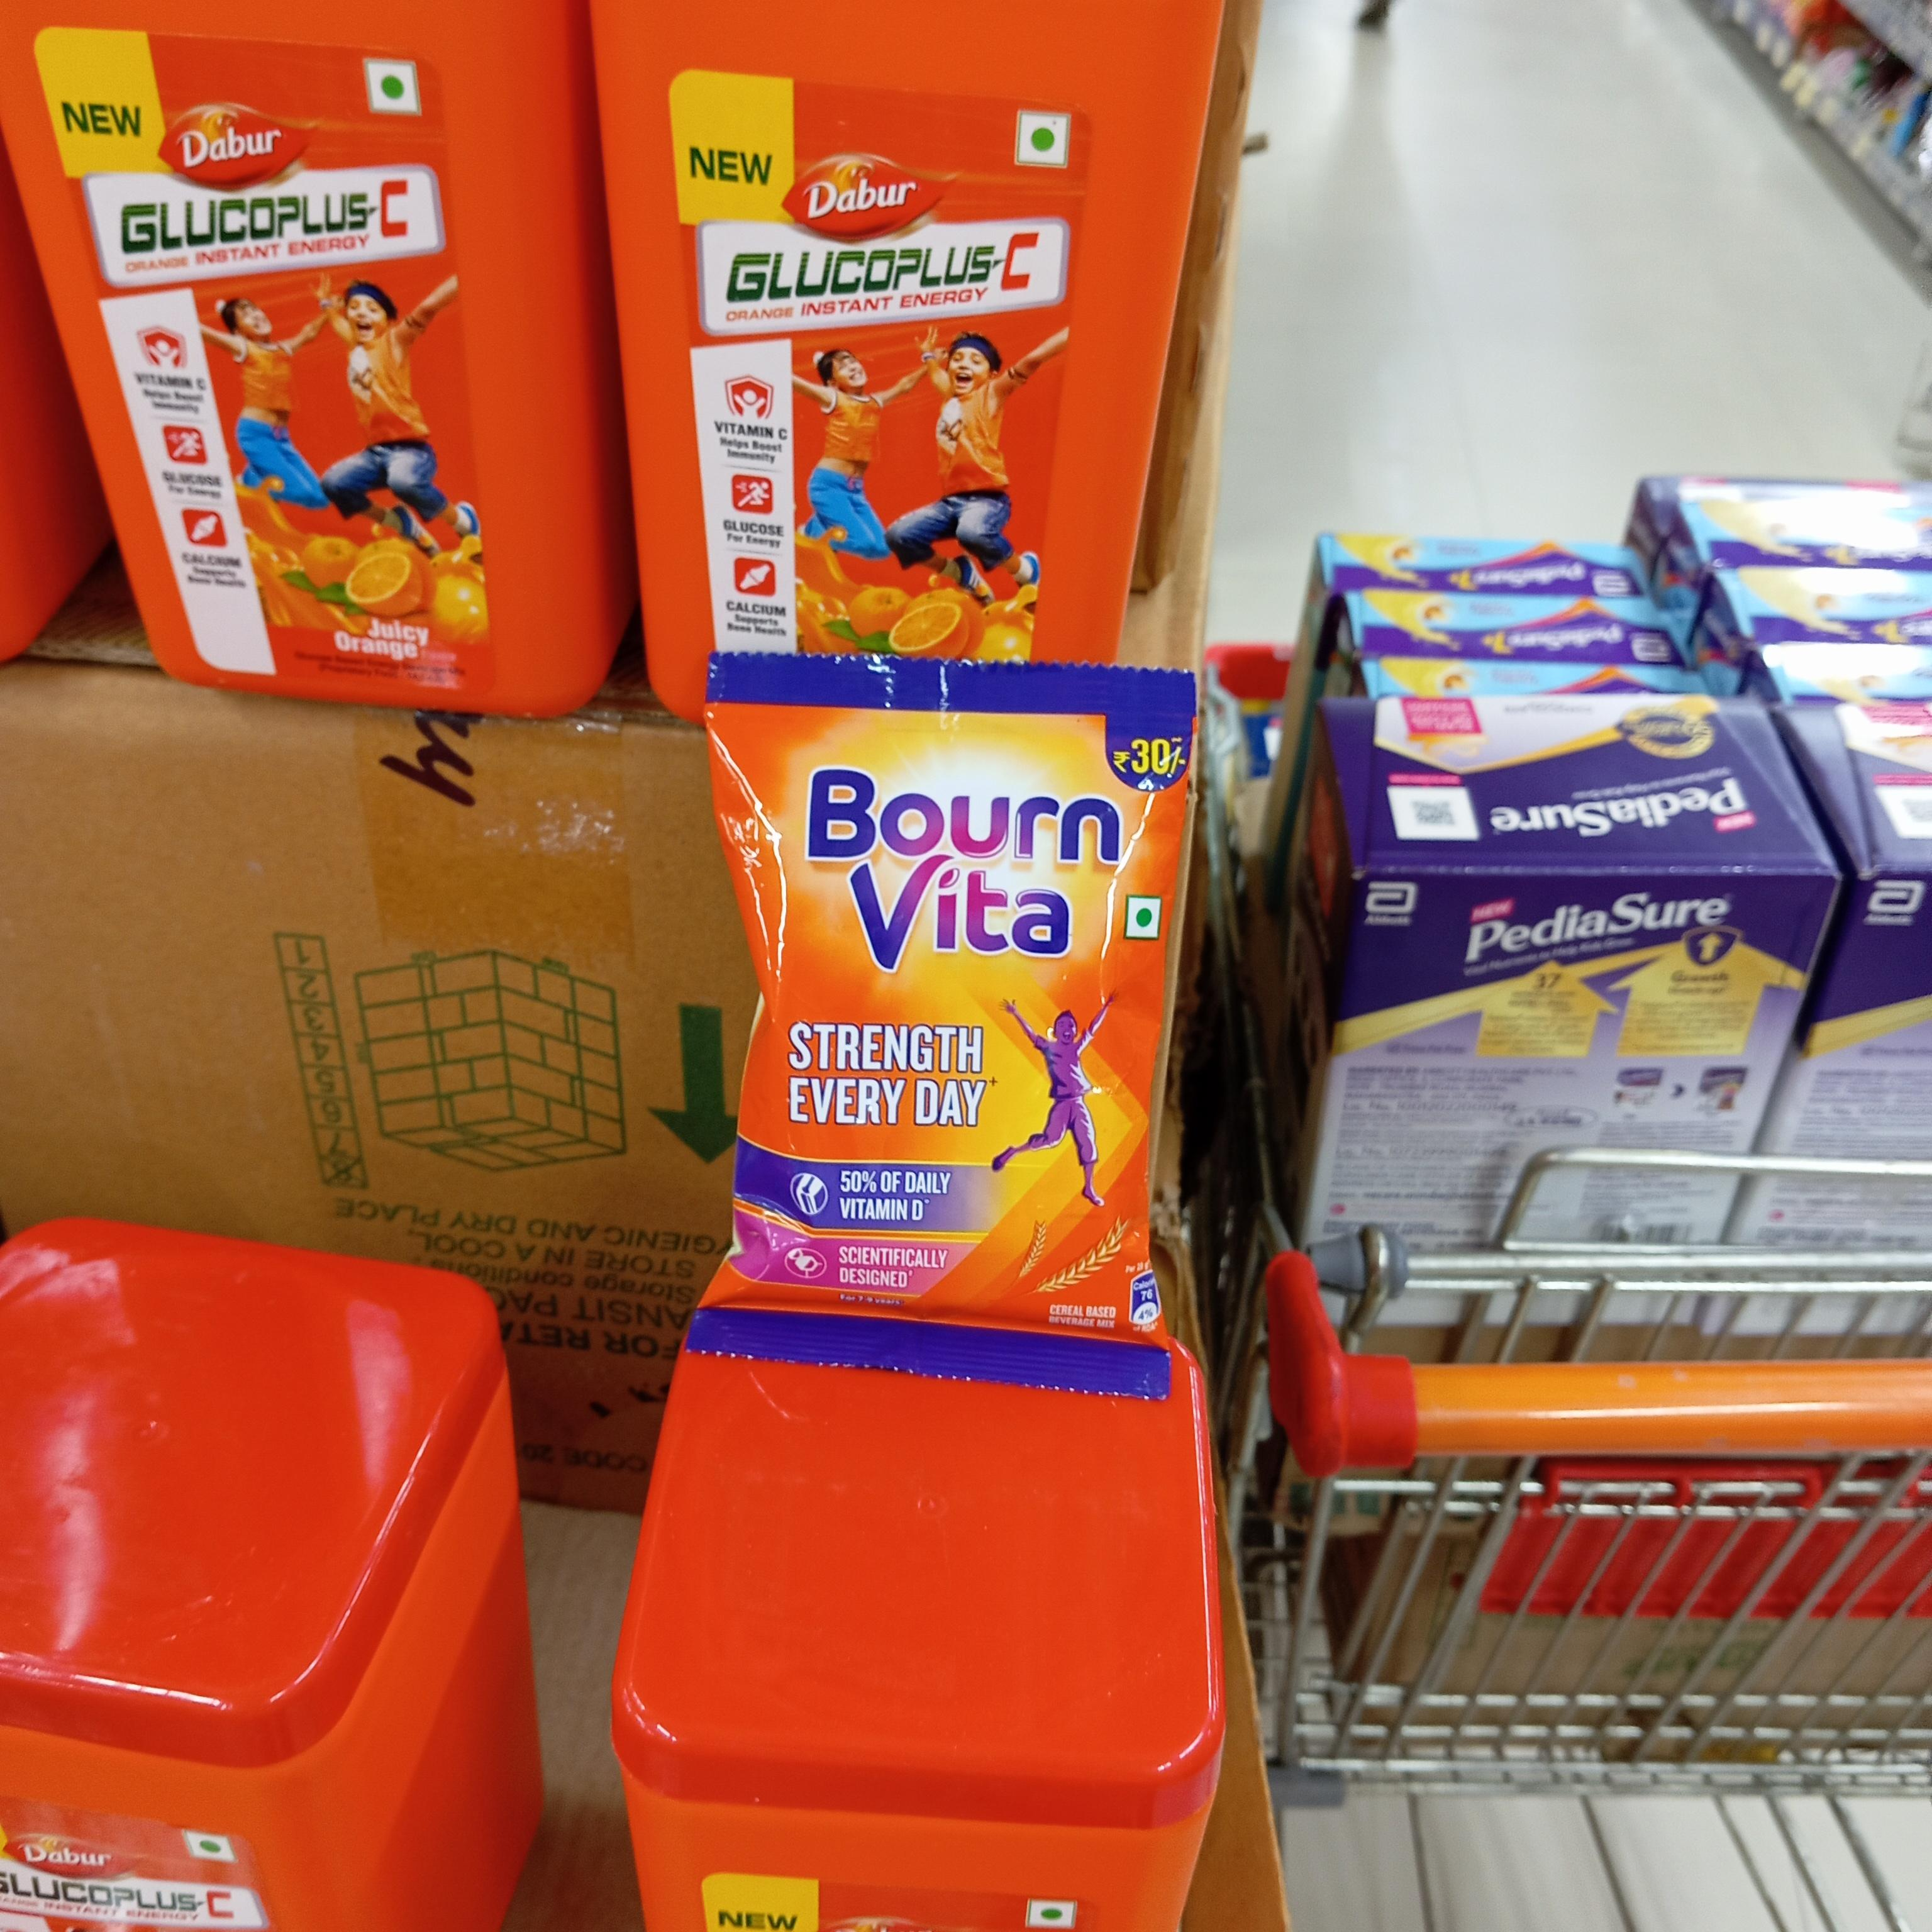BOURN_VITA_75_G_POUCH: (720, 633, 1146, 1378)
